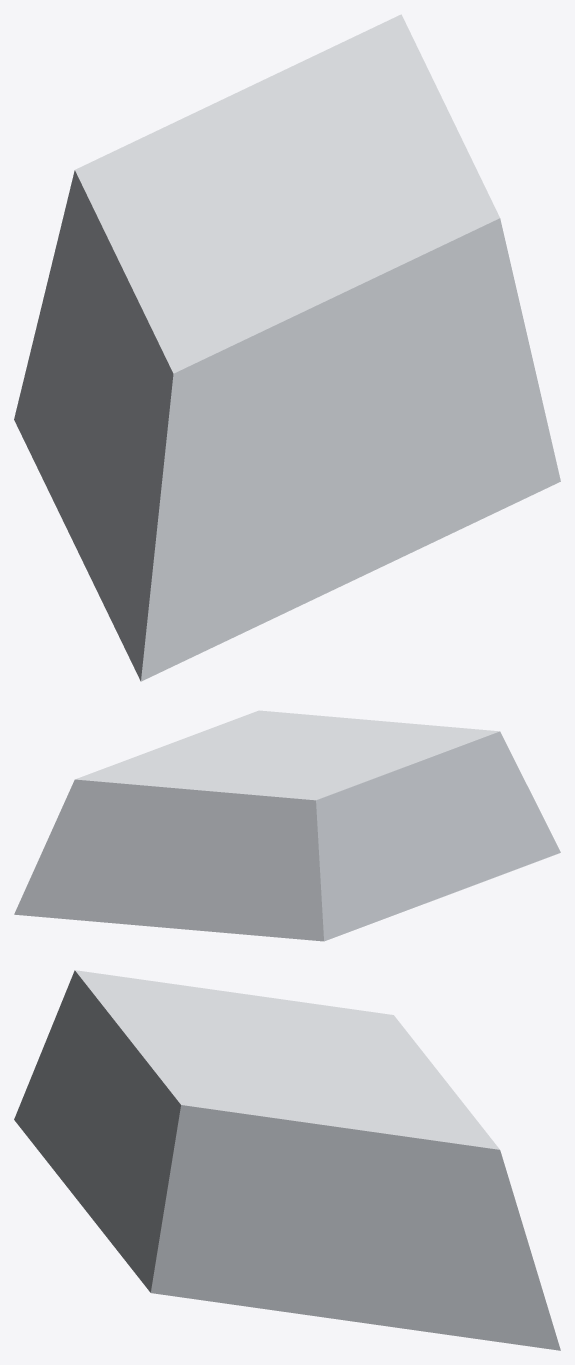
The model's file is SilverBar.fbx.
The picture shows the model from 3 angles, top to bottom: view 1: azimuth 30°, elevation 25°; view 2: azimuth 150°, elevation 25°; view 3: azimuth 270°, elevation 25°; orthographic projection. The views are drawn at different scales.
Visible parts, largest first — view 1: SilverBar; view 2: SilverBar; view 3: SilverBar.
Boxes of the visible parts, x1=… form: SilverBar: x1=14, y1=14, x2=560, y2=681; SilverBar: x1=14, y1=710, x2=560, y2=941; SilverBar: x1=14, y1=970, x2=560, y2=1350.
Size of the model in its own units: 1.27 by 0.45 by 1.27.
Materials: 1 (1 with a texture image).
